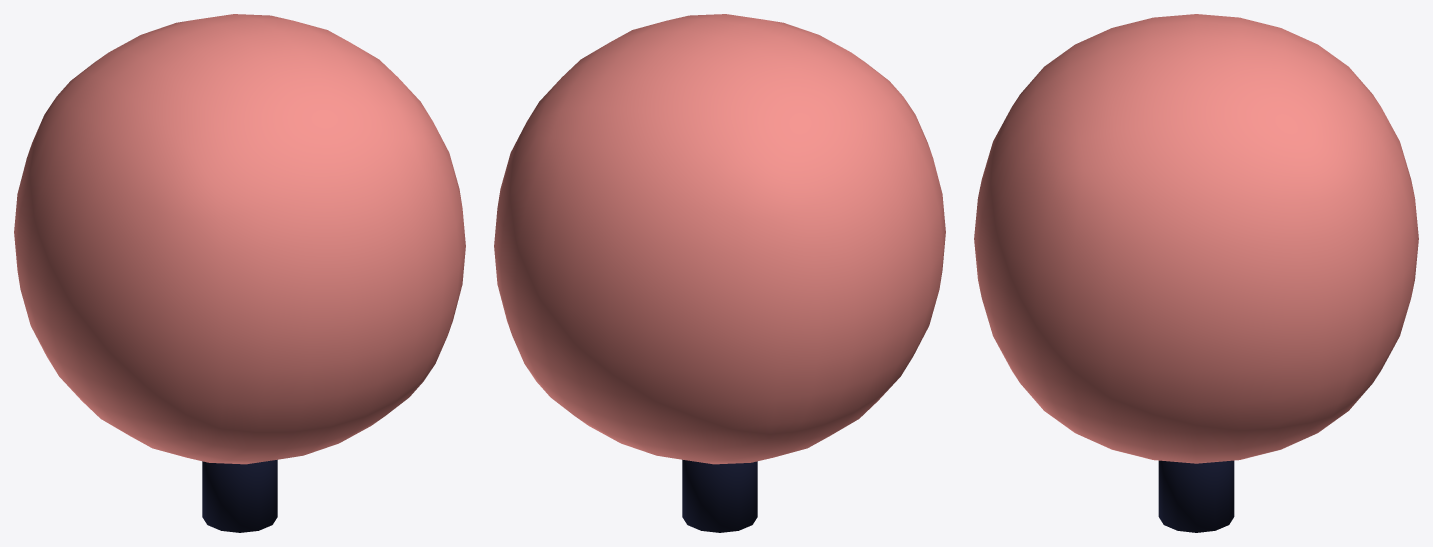
Rendered from arbre-rond-automne.gltf.
The picture shows the model from 3 angles, left to right: view 1: azimuth 30°, elevation 25°; view 2: azimuth 150°, elevation 25°; view 3: azimuth 270°, elevation 25°; orthographic projection.
Parts seen in each view (by area): view 1: Cube.001, Cylinder; view 2: Cube.001, Cylinder; view 3: Cube.001, Cylinder.
Boxes of the visible parts, x1=… form: Cube.001: x1=14, y1=14, x2=465, y2=464; Cylinder: x1=202, y1=459, x2=277, y2=532; Cube.001: x1=494, y1=14, x2=945, y2=464; Cylinder: x1=682, y1=459, x2=757, y2=532; Cube.001: x1=974, y1=14, x2=1418, y2=463; Cylinder: x1=1158, y1=460, x2=1234, y2=532.
Size of the model in its own units: 1.11 by 1.32 by 1.11.
